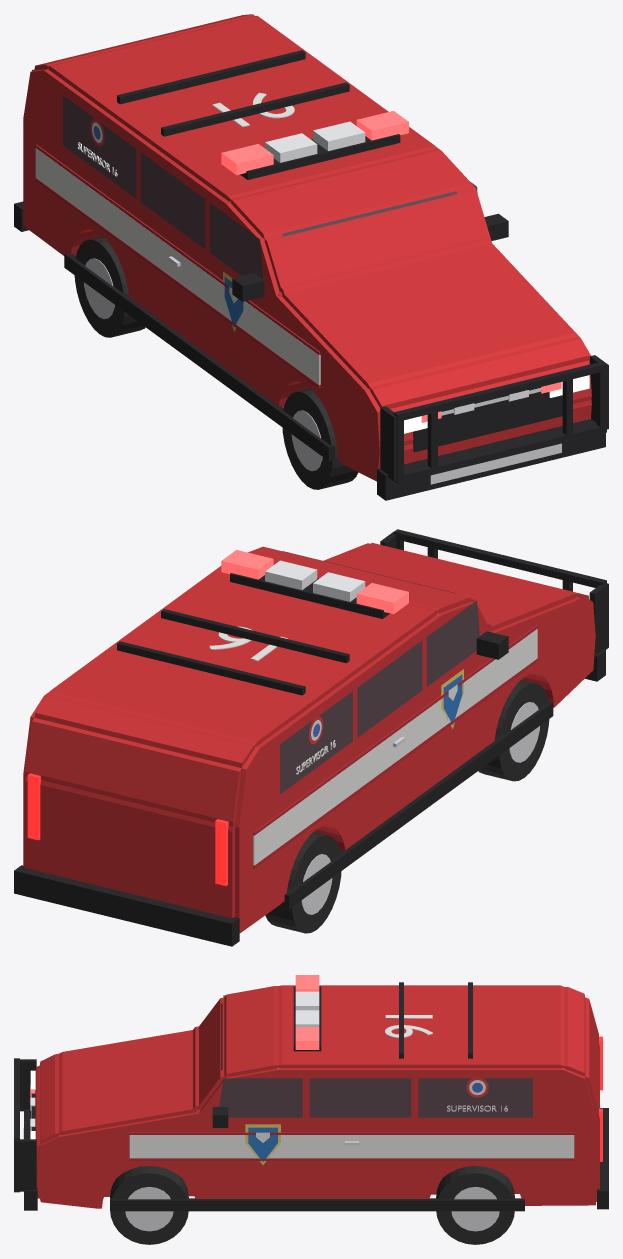
Rendered from Supervisor16.fbx.
The picture shows the model from 3 angles, top to bottom: view 1: azimuth 30°, elevation 25°; view 2: azimuth 150°, elevation 25°; view 3: azimuth 270°, elevation 25°; orthographic projection. The views are drawn at different scales.
Visible parts, largest first — view 1: Sub_Shell, Sub_Trim, Sub_Glass, Sub_Lights, SubWheelFrontRight, SubWheelRearRight, Sub_Emblems, Sub_Decals; view 2: Sub_Shell, Sub_Trim, Sub_Glass, Sub_Lights, SubWheelRearRight, SubWheelFrontRight, Sub_Emblems, Sub_Decals; view 3: Sub_Shell, Sub_Trim, Sub_Glass, SubWheelRearLeft, SubWheelFrontLeft, Sub_Lights, Sub_Emblems, Sub_Decals.
Part boxes in pixels (left/top/right/bottom): Sub_Shell: left=23, top=14, right=591, bottom=481; Sub_Trim: left=14, top=50, right=608, bottom=500; Sub_Glass: left=63, top=95, right=477, bottom=279; Sub_Lights: left=221, top=111, right=589, bottom=433; SubWheelFrontRight: left=282, top=388, right=358, bottom=489; SubWheelRearRight: left=74, top=236, right=145, bottom=337; Sub_Emblems: left=90, top=118, right=243, bottom=331; Sub_Decals: left=77, top=92, right=294, bottom=176; Sub_Shell: left=23, top=543, right=595, bottom=933; Sub_Trim: left=14, top=529, right=608, bottom=946; Sub_Glass: left=259, top=547, right=479, bottom=794; Sub_Lights: left=27, top=550, right=589, bottom=885; SubWheelRearRight: left=265, top=832, right=341, bottom=933; SubWheelFrontRight: left=478, top=680, right=549, bottom=781; Sub_Emblems: left=309, top=669, right=463, bottom=744; Sub_Decals: left=209, top=626, right=335, bottom=774; Sub_Shell: left=35, top=985, right=599, bottom=1208; Sub_Trim: left=14, top=982, right=608, bottom=1211; Sub_Glass: left=219, top=995, right=532, bottom=1117; SubWheelRearLeft: left=436, top=1166, right=514, bottom=1244; SubWheelFrontLeft: left=110, top=1166, right=188, bottom=1244; Sub_Lights: left=30, top=975, right=602, bottom=1161; Sub_Emblems: left=245, top=1077, right=488, bottom=1164; Sub_Decals: left=385, top=1015, right=507, bottom=1111.
Bounding box in the file's own units: 2.44 × 2.18 × 6.02.
